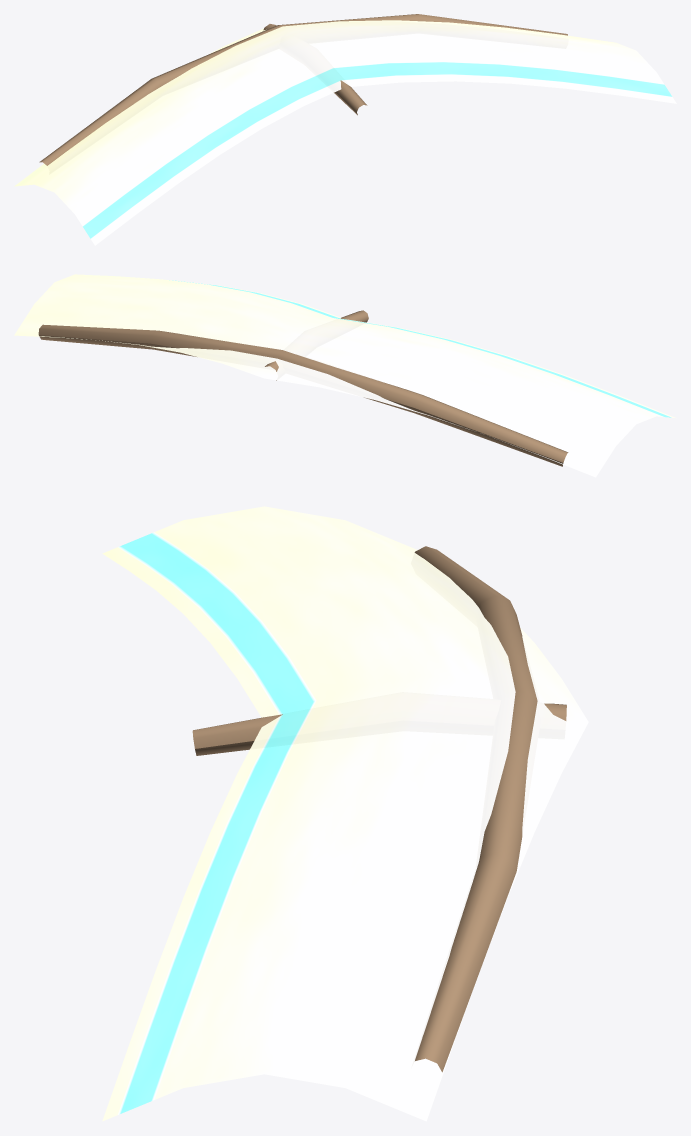
Rendered from glider.glb.
The picture shows the model from 3 angles, top to bottom: view 1: azimuth 30°, elevation 25°; view 2: azimuth 150°, elevation 25°; view 3: azimuth 270°, elevation 25°; orthographic projection. The views are drawn at different scales.
Visible parts, largest first — view 1: glider; view 2: glider; view 3: glider.
Boxes of the visible parts, <box> form: glider: <box>14,14,676,245</box>; glider: <box>14,274,676,477</box>; glider: <box>102,506,588,1121</box>.
Bounding box in the file's own units: 116 × 15.5 × 42.
Materials: 2 (1 with a texture image).
